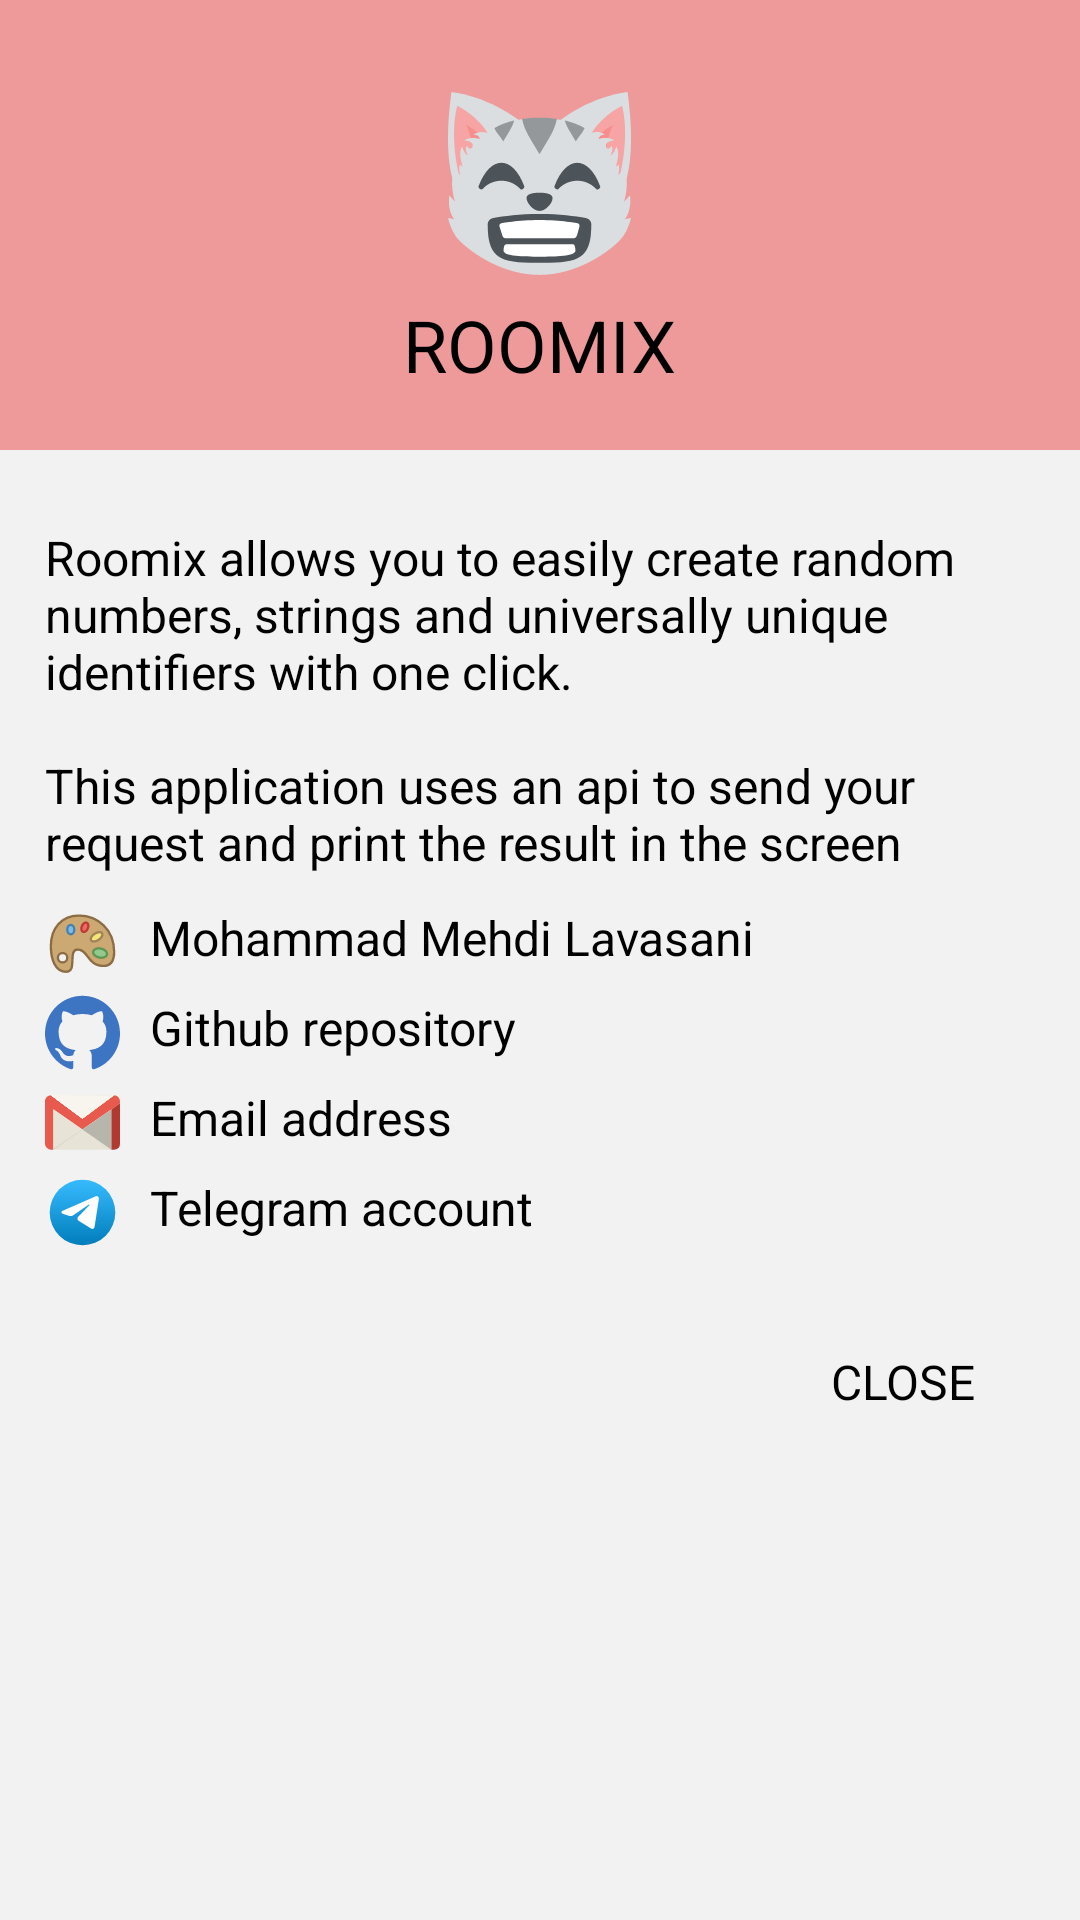

Named icons in this screenshot (1080x1920) and their bounding boxes, (x1, y1, x2, y2):
cat: (448, 92, 631, 275)
